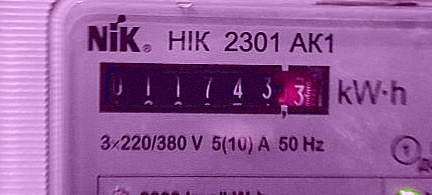0: (109, 69, 123, 97)
1: (170, 69, 182, 97), (141, 69, 151, 96)
3: (259, 73, 273, 100), (290, 82, 304, 107)
4: (229, 73, 243, 100)
7: (199, 70, 214, 98)
screen: (87, 50, 340, 125)
